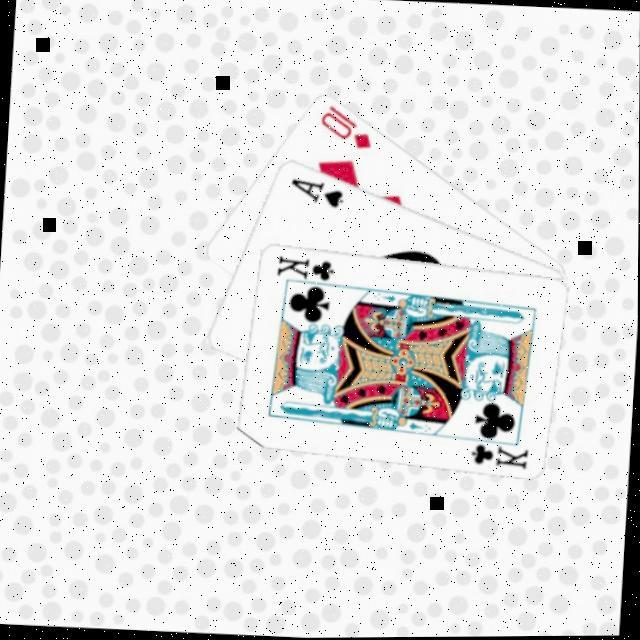10D: (318, 101, 379, 152)
AS: (288, 173, 350, 210)
KC: (463, 432, 534, 472), (276, 252, 344, 290)
